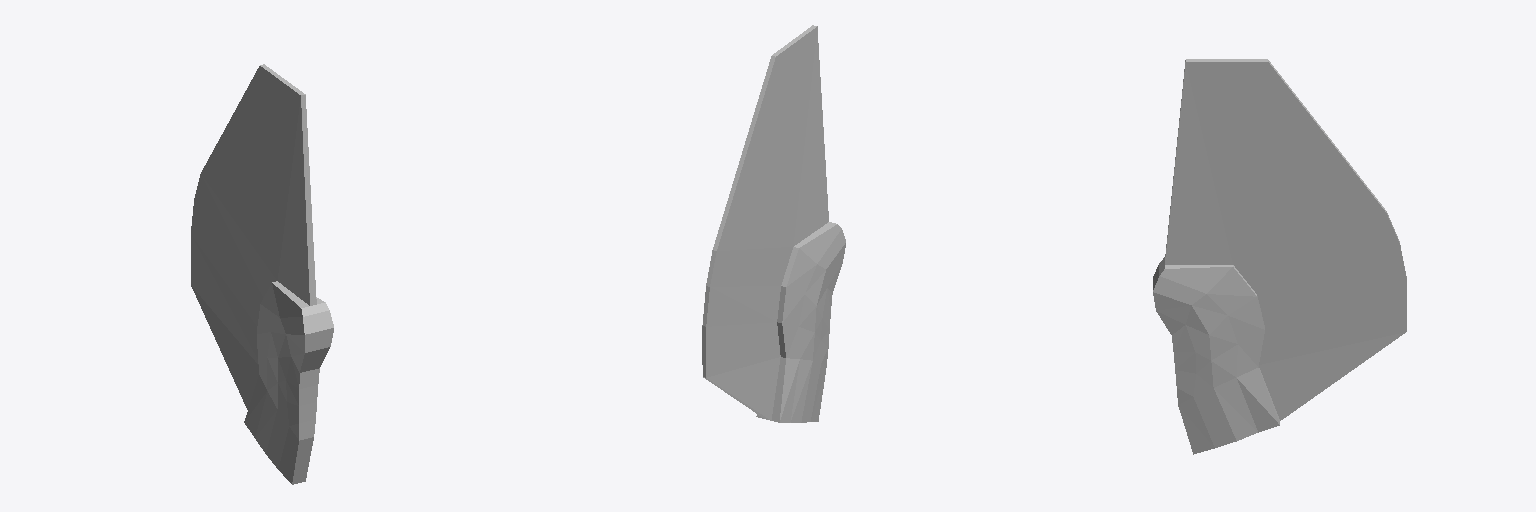
The model's file is forewing.obj.
3 renders of one model, left to right at view 1: azimuth 30°, elevation 25°; view 2: azimuth 150°, elevation 25°; view 3: azimuth 270°, elevation 25°, orthographic.
Size of the model in its own units: 0.0614 by 0.771 by 0.4544.